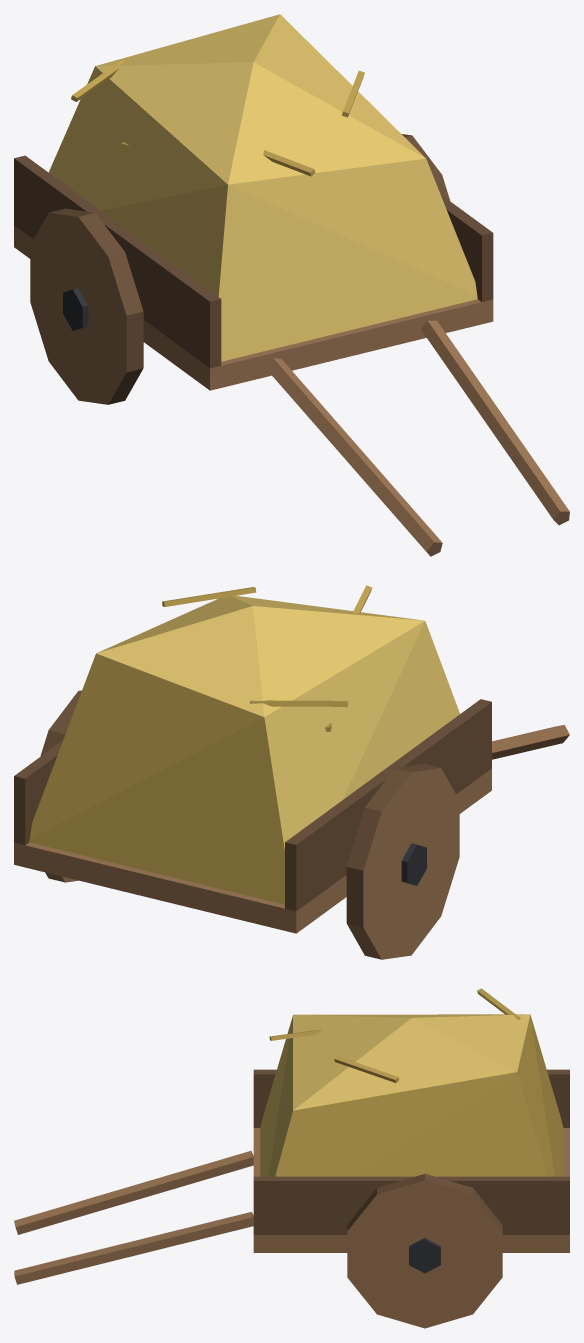
The model's file is hay_cart.glb.
3 renders of one model, top to bottom at view 1: azimuth 30°, elevation 25°; view 2: azimuth 150°, elevation 25°; view 3: azimuth 270°, elevation 25°, orthographic. The views are drawn at different scales.
Visible parts, largest first — view 1: LOD0; view 2: LOD0; view 3: LOD0.
Boxes of the visible parts, x1,y1,x2,y2 form: LOD0: [14, 14, 569, 556]; LOD0: [14, 585, 569, 959]; LOD0: [14, 988, 569, 1328].
Size of the model in its own units: 2.44 by 2.05 by 4.22.
1 material, 1 textured.
